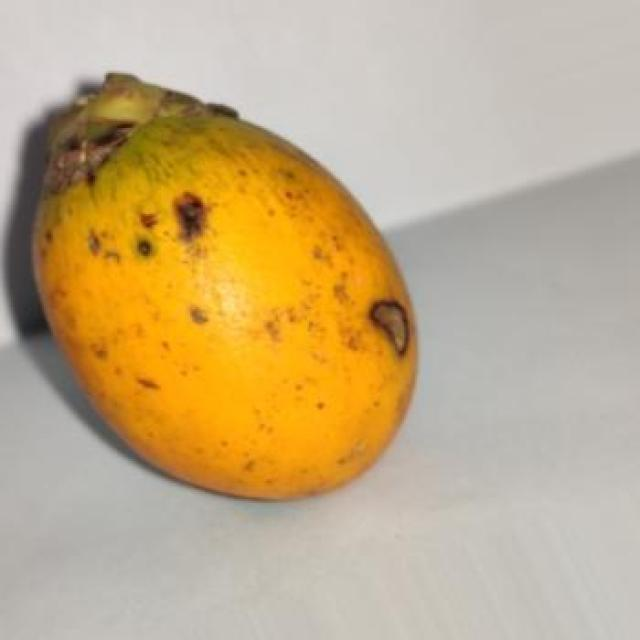good: (29, 73, 421, 503)
